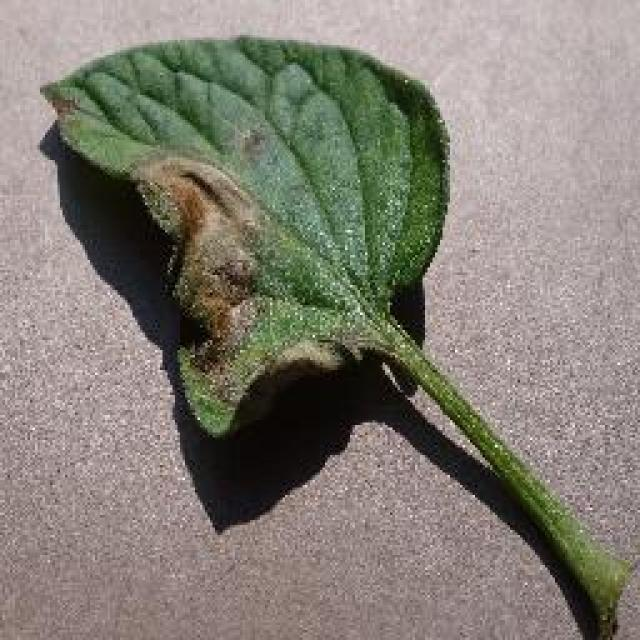Tomato late blight leaf: (40, 35, 445, 443)
